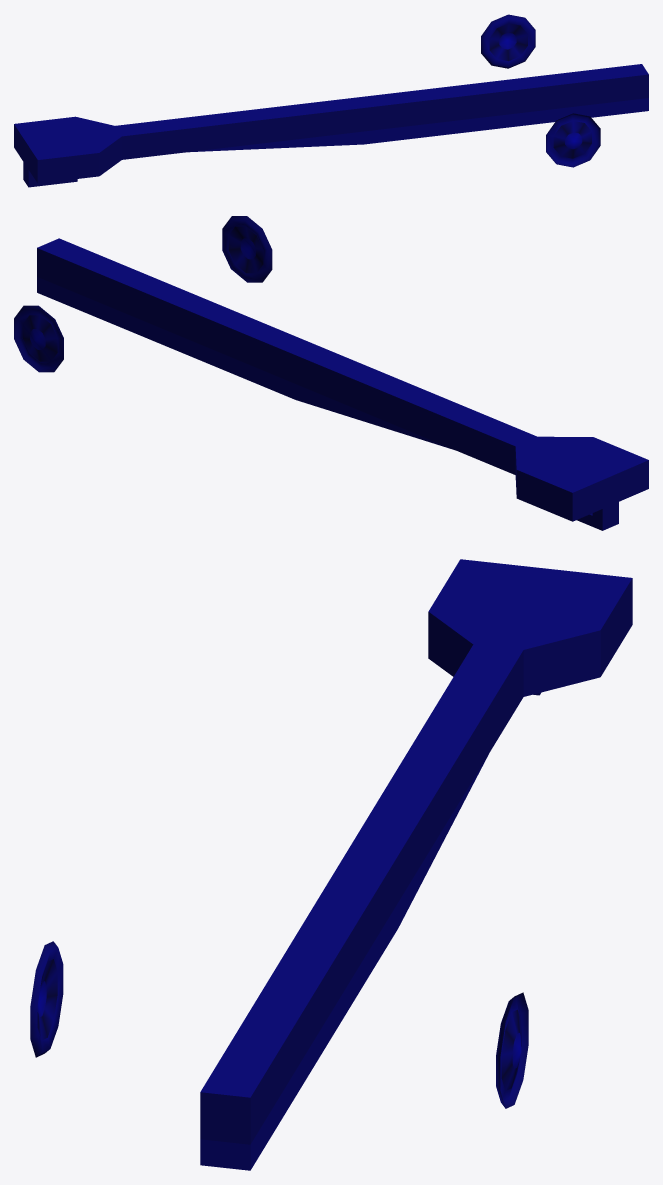
Rendered from refl.032.fbx.
The picture shows the model from 3 angles, top to bottom: view 1: azimuth 30°, elevation 25°; view 2: azimuth 150°, elevation 25°; view 3: azimuth 270°, elevation 25°; orthographic projection. The views are drawn at different scales.
Parts seen in each view (by area): view 1: refl.032; view 2: refl.032; view 3: refl.032.
Part boxes in pixels (box(x1,y1,x2,y2)): refl.032: box(14, 14, 648, 187); refl.032: box(14, 216, 648, 530); refl.032: box(30, 559, 632, 1170).
Bounding box in the file's own units: 283 × 598 × 61.25.
